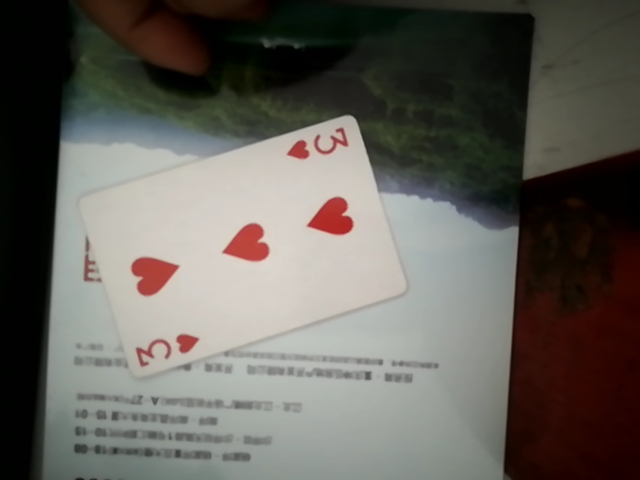hx 3: (78, 109, 400, 372)
